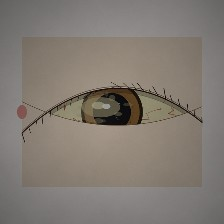corneal_ulcer: (69, 82, 132, 132)
